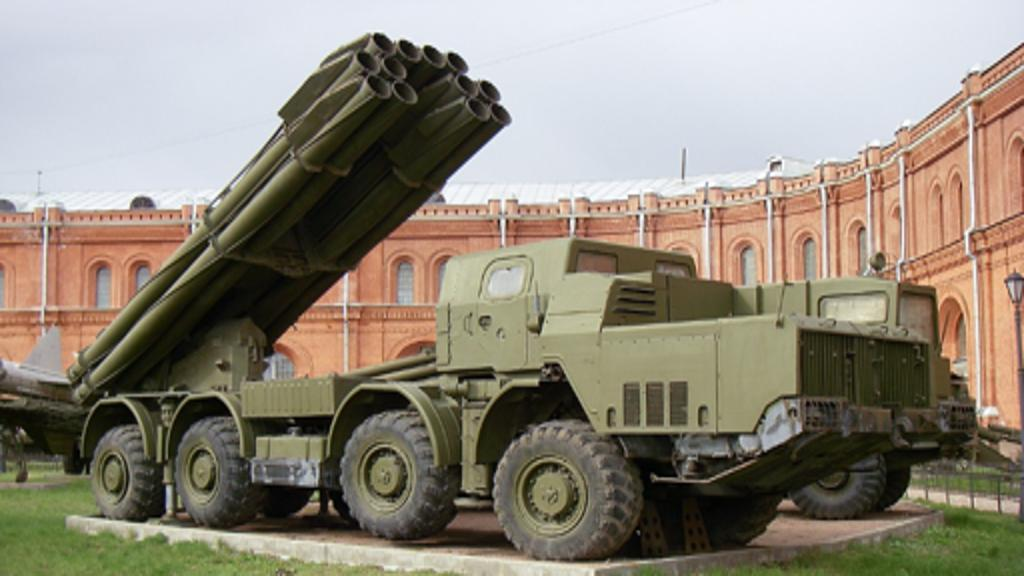MLRS: (64, 31, 974, 558)
